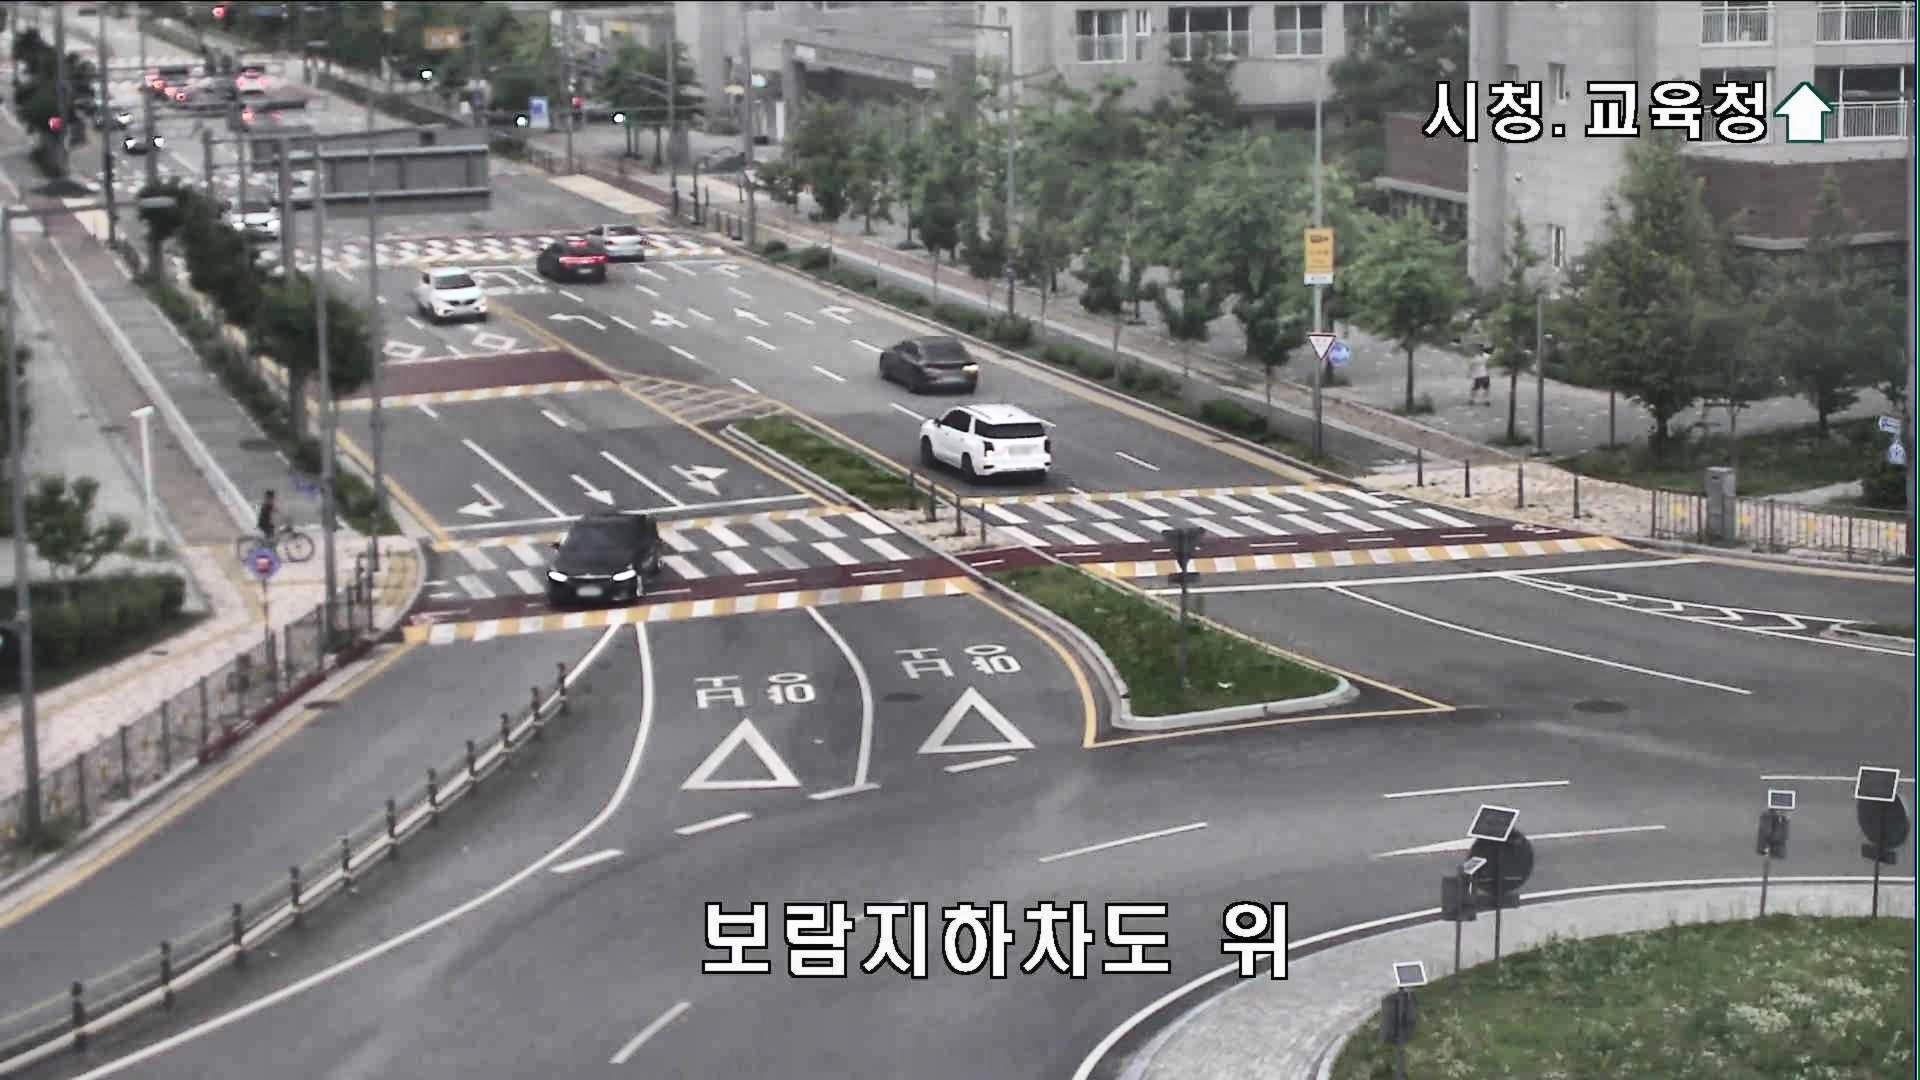sidewalk: (255, 487, 285, 547), (1464, 349, 1491, 407)
